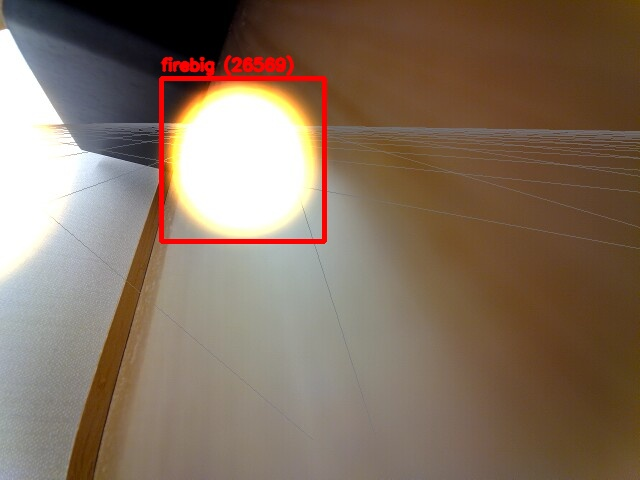firebig: (161, 78, 324, 241)
